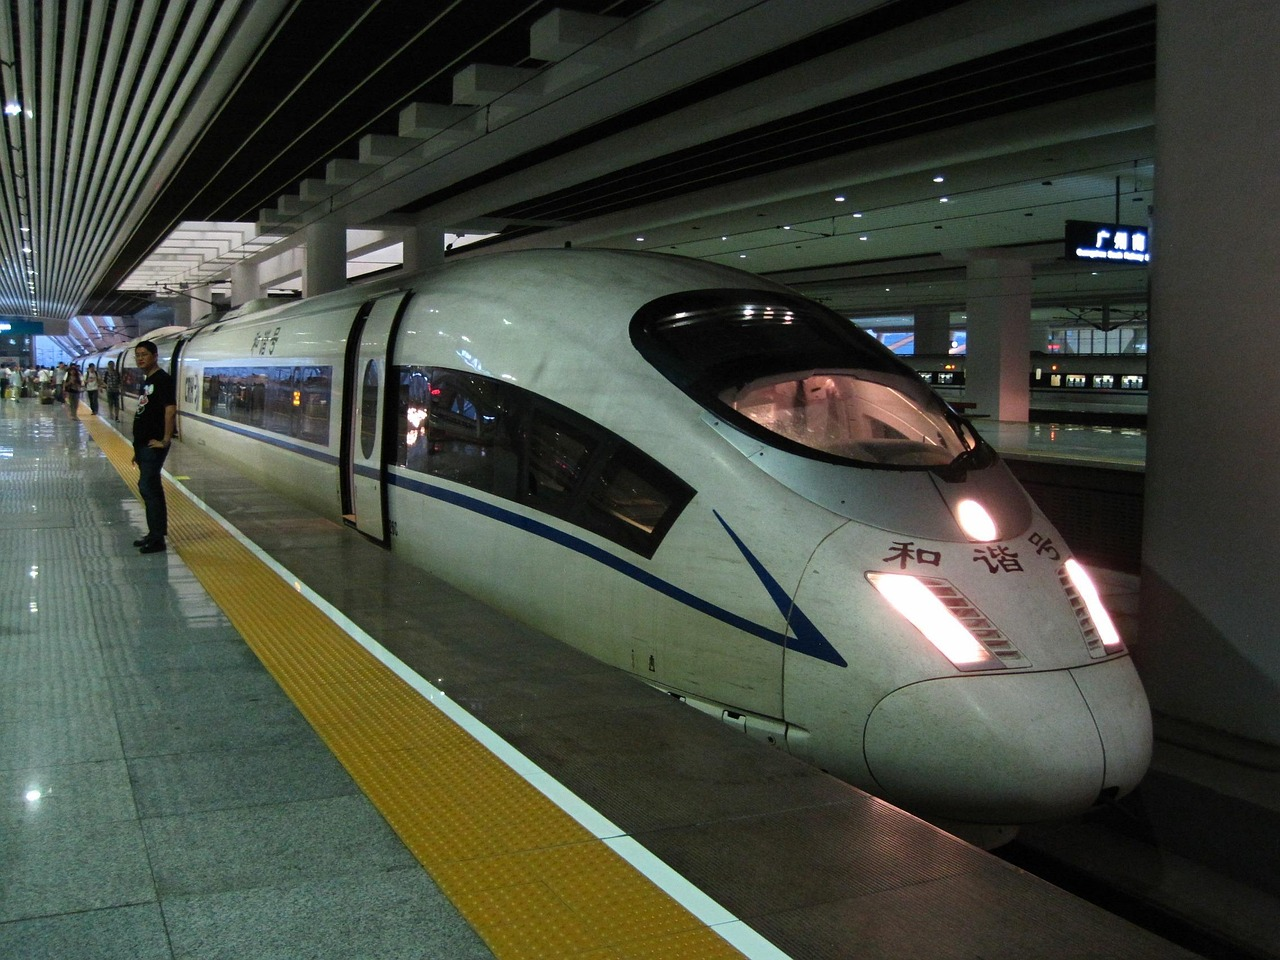train1: (178, 240, 1168, 818)
